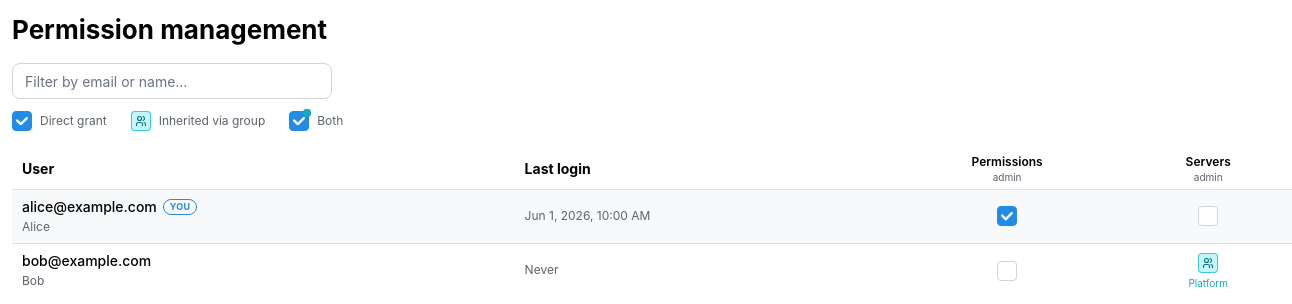
PermissionsAdminPage provenance › filters users by the search box
This screenshot has width=1292, height=304.
Type "bob" into the field with placeholder "Filter by email or name…" at point(172, 81), box [12,63,332,99]
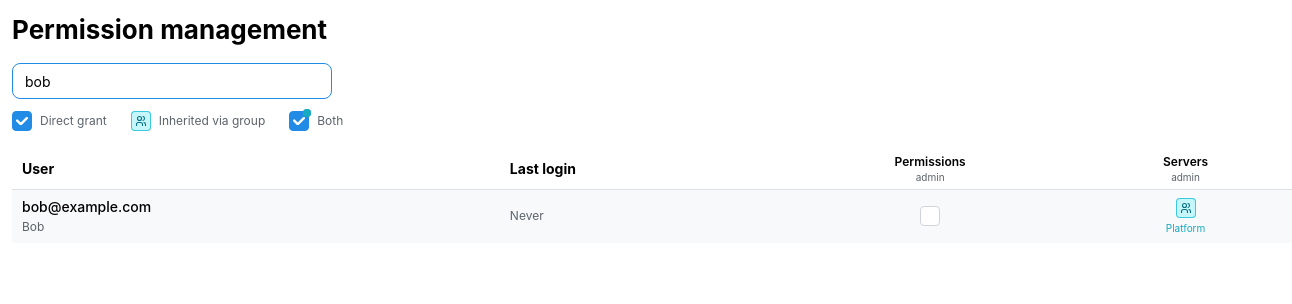
Expected: the text "bob@example.com" is shown, [22,197,151,217]
Expected: the text "alice@example.com" is gone
